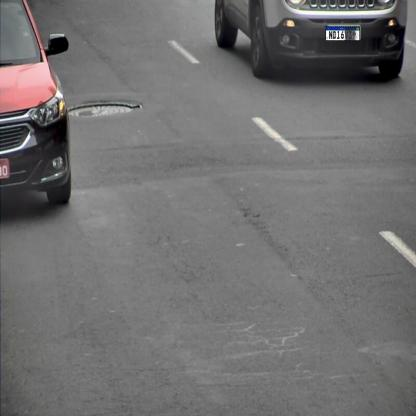PlacaM: (325, 26, 360, 41)
